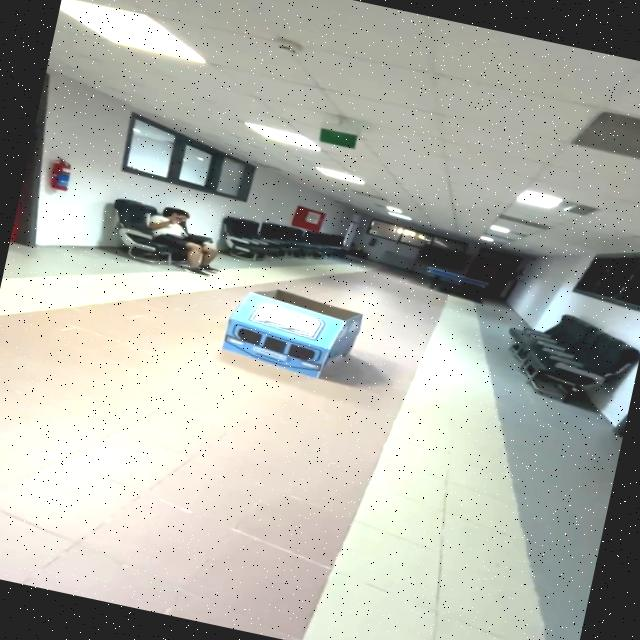blue_car: (197, 269, 403, 401)
